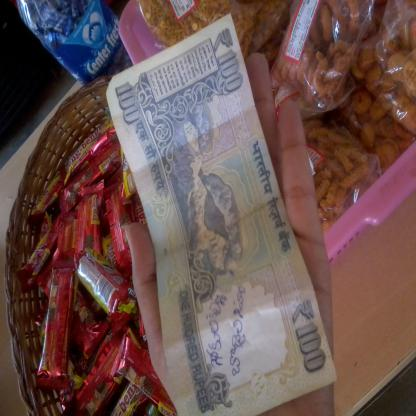Old100Back: (105, 12, 340, 416)
